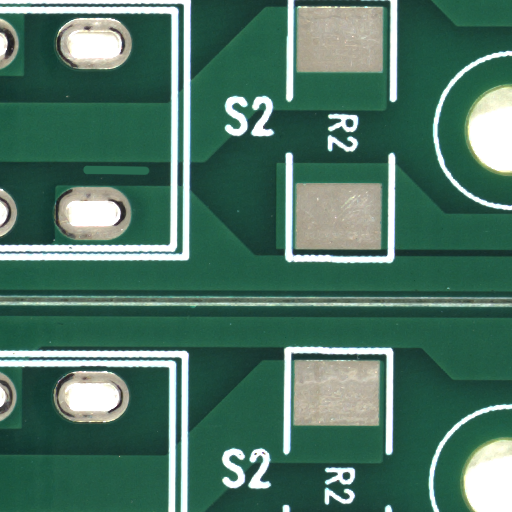Spurious_copper: (116, 169, 186, 184)
